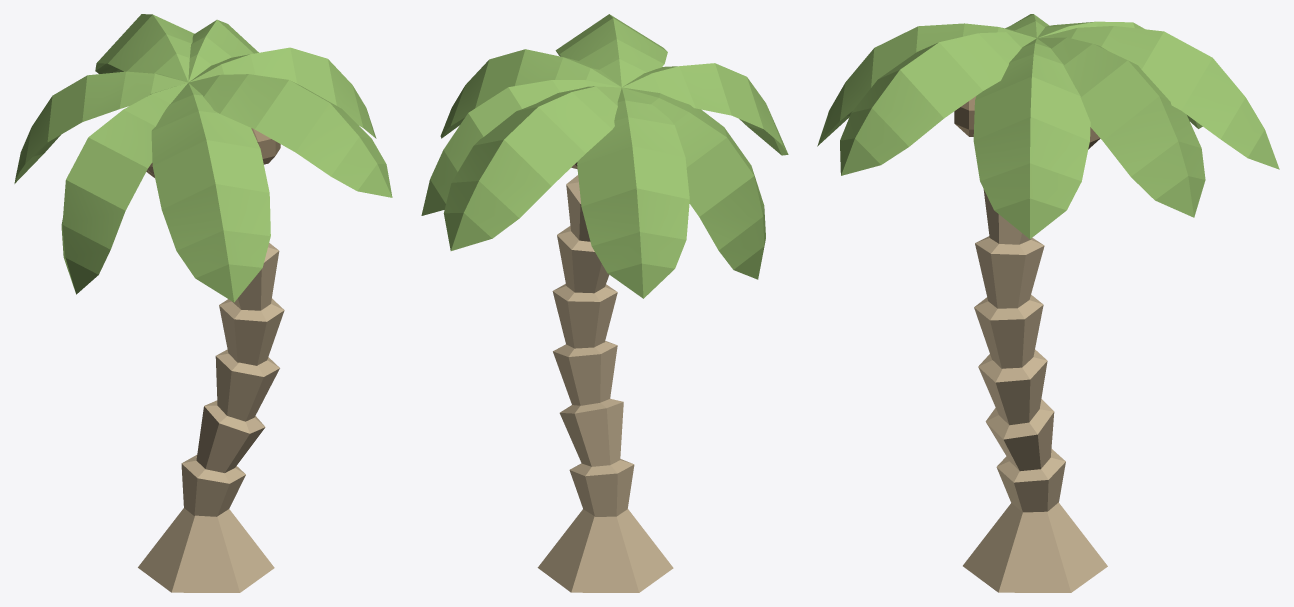
Rendered from Prop_Tree_Palm_2.glb.
3 renders of one model, left to right at view 1: azimuth 30°, elevation 25°; view 2: azimuth 150°, elevation 25°; view 3: azimuth 270°, elevation 25°, orthographic. The views are drawn at different scales.
Visible parts, largest first — view 1: object17, object22, object18, object13, object8, object15, object14, object19, object1, object6, object7, object10 (+2 smaller); view 2: object8, object14, object18, object13, object17, object10, object15, object22, object19, object1, object6, object7 (+2 smaller); view 3: object15, object10, object22, object14, object13, object17, object3, object6, object1, object19, object7, object9 (+1 smaller).
Boxes of the visible parts, bbox=[...] form: object17: bbox=[151, 83, 270, 302]; object22: bbox=[189, 74, 392, 197]; object18: bbox=[61, 83, 187, 294]; object13: bbox=[138, 508, 274, 592]; object8: bbox=[14, 71, 187, 183]; object15: bbox=[189, 47, 376, 138]; object14: bbox=[95, 14, 194, 82]; object19: bbox=[196, 400, 265, 472]; object1: bbox=[215, 349, 279, 421]; object6: bbox=[219, 298, 284, 365]; object7: bbox=[181, 455, 245, 516]; object10: bbox=[188, 19, 258, 82]; object8: bbox=[577, 88, 689, 298]; object14: bbox=[443, 86, 621, 250]; object18: bbox=[622, 87, 765, 279]; object13: bbox=[537, 509, 673, 592]; object17: bbox=[622, 63, 788, 155]; object10: bbox=[421, 80, 619, 215]; object15: bbox=[440, 49, 620, 138]; object22: bbox=[555, 14, 667, 87]; object19: bbox=[559, 398, 623, 466]; object1: bbox=[553, 341, 617, 405]; object6: bbox=[552, 284, 617, 348]; object7: bbox=[569, 459, 634, 516]; object15: bbox=[973, 38, 1090, 238]; object10: bbox=[1037, 37, 1205, 217]; object22: bbox=[840, 32, 1036, 175]; object14: bbox=[1037, 26, 1279, 169]; object13: bbox=[963, 502, 1107, 592]; object17: bbox=[817, 23, 1035, 146]; object3: bbox=[975, 236, 1044, 308]; object6: bbox=[974, 294, 1043, 368]; object1: bbox=[978, 349, 1047, 425]; object19: bbox=[985, 399, 1054, 471]; object7: bbox=[996, 448, 1065, 512]; object9: bbox=[983, 189, 1031, 244].
Size of the model in its own units: 2.69 by 4.12 by 3.18.
